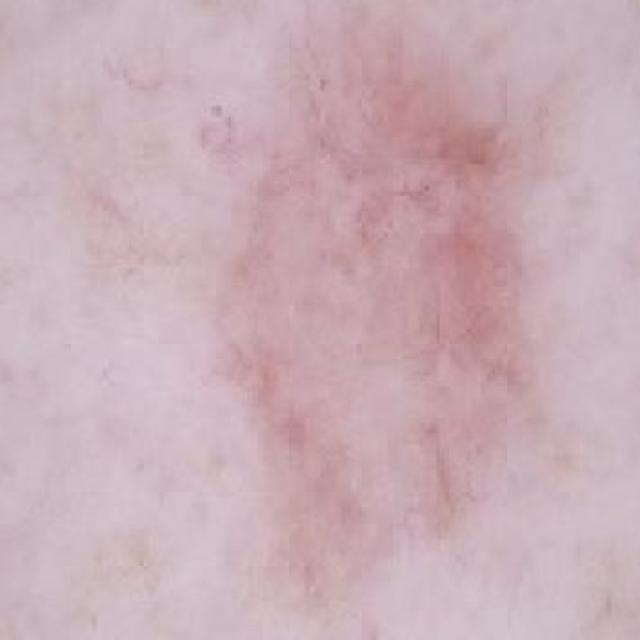DF: (118, 0, 613, 640)
